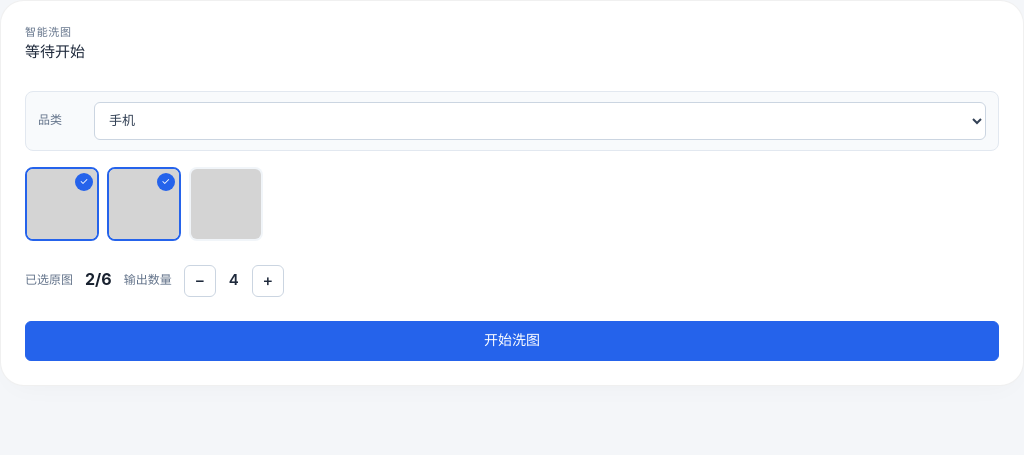
Test: ImageGenerationPanel › shows an actionable message when starting the batch fails
Click the button "开始洗图" at (512, 341), box [25, 321, 999, 361]
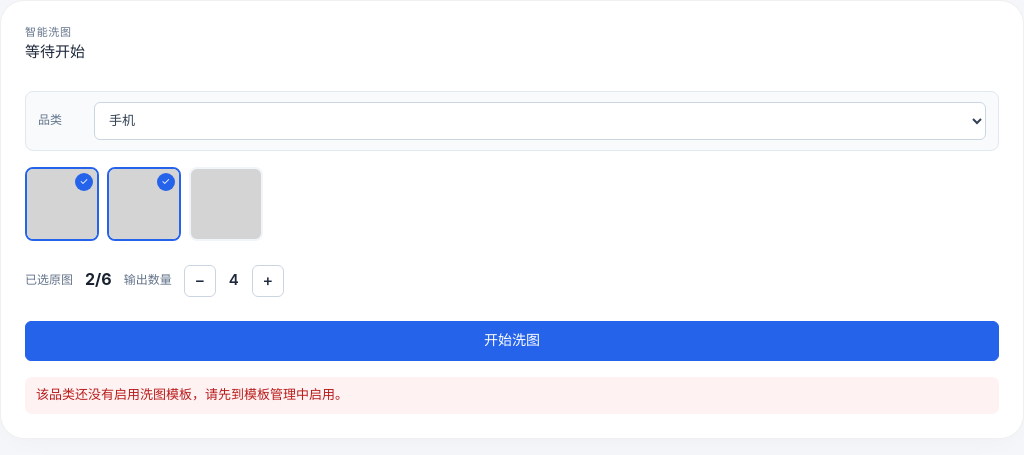
Expected: the message shows "该品类还没有启用洗图模板", [36, 385, 348, 405]
